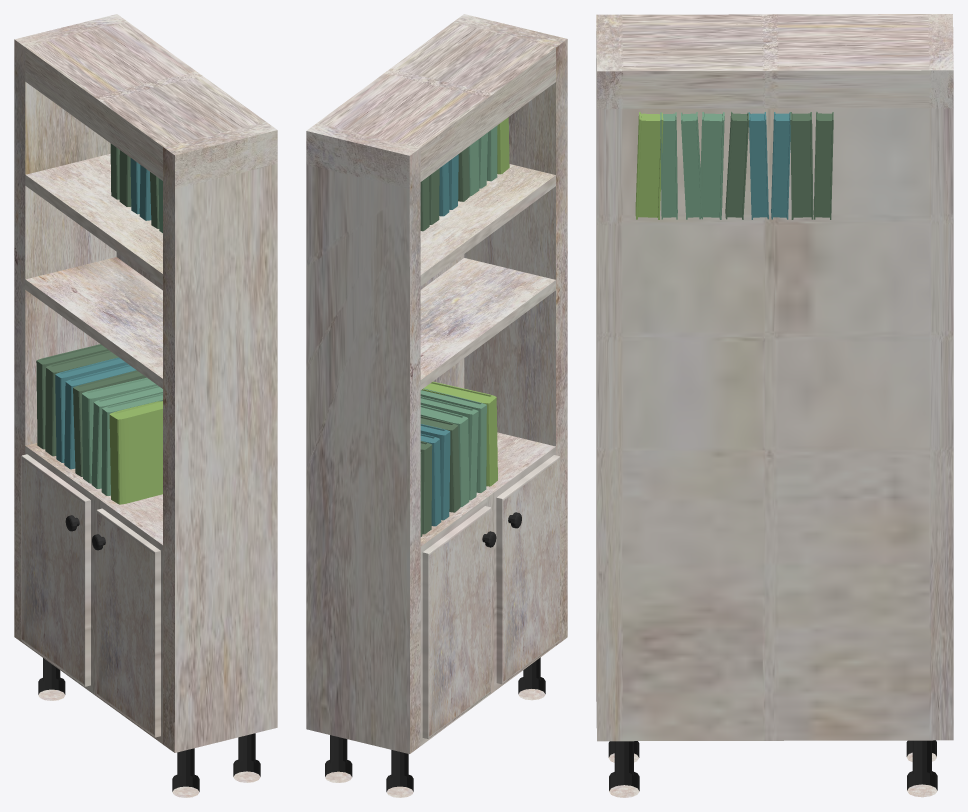
Rendered from SKAFFBOOK.fbx.
3 views of the same model, side by side, from view 1: azimuth 30°, elevation 25°; view 2: azimuth 150°, elevation 25°; view 3: azimuth 270°, elevation 25° (orthographic). The views are drawn at different scales.
Visible parts, largest first — view 1: SHKAFBOLNICA.008; view 2: SHKAFBOLNICA.008; view 3: SHKAFBOLNICA.008.
Part boxes in pixels (bbox=[...]): SHKAFBOLNICA.008: bbox=[14, 14, 277, 797]; SHKAFBOLNICA.008: bbox=[306, 14, 567, 797]; SHKAFBOLNICA.008: bbox=[596, 14, 953, 797].
Size of the model in its own units: 183 by 851 by 378.
6 materials, 1 textured.
